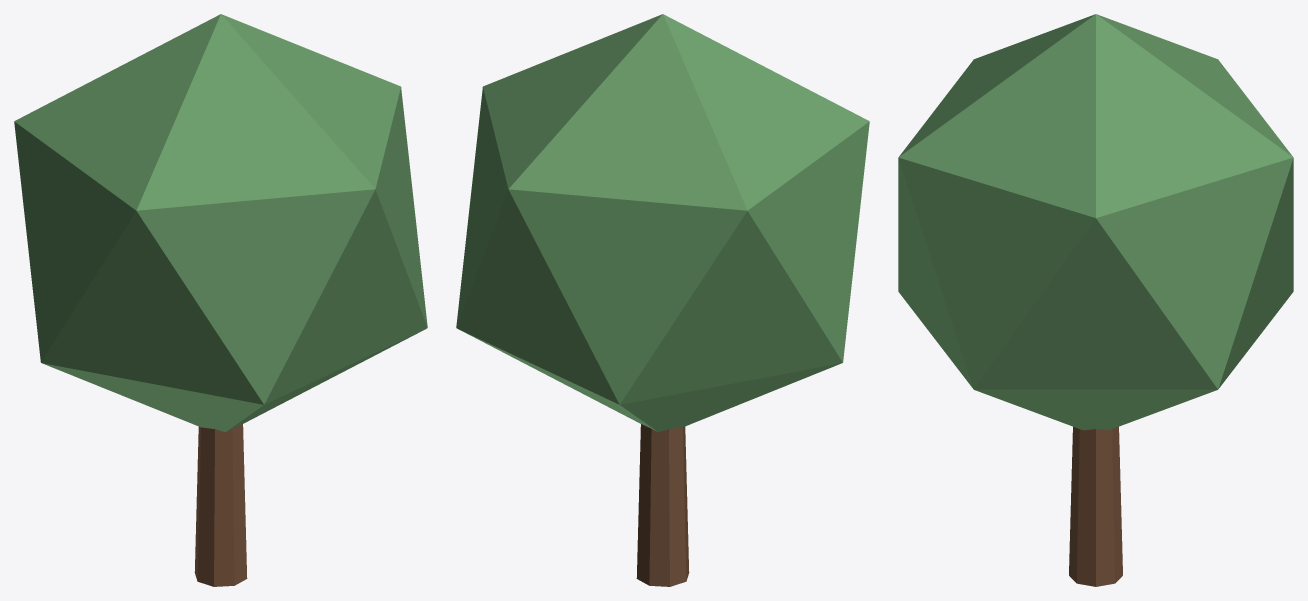
The model's file is nature_topiary_ball.glb.
3 renders of one model, left to right at view 1: azimuth 30°, elevation 25°; view 2: azimuth 150°, elevation 25°; view 3: azimuth 270°, elevation 25°, orthographic.
Parts seen in each view (by area): view 1: nature_topiary_ball; view 2: nature_topiary_ball; view 3: nature_topiary_ball.
Part boxes in pixels (bbox=[...]): nature_topiary_ball: bbox=[14, 14, 427, 586]; nature_topiary_ball: bbox=[456, 14, 869, 586]; nature_topiary_ball: bbox=[898, 14, 1293, 586].
Bounding box in the file's own units: 1.07 × 1.6 × 1.02.
